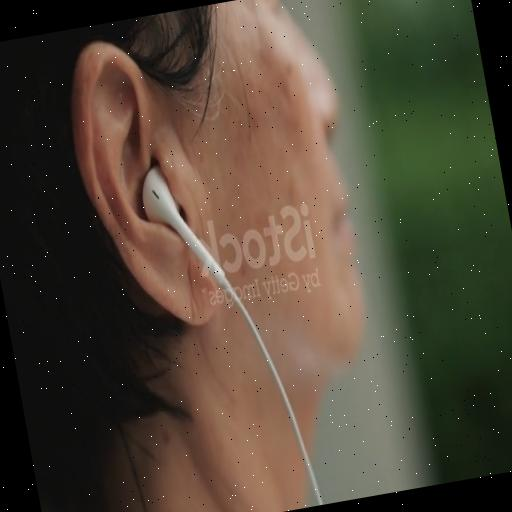earphone: (139, 139, 322, 512)
